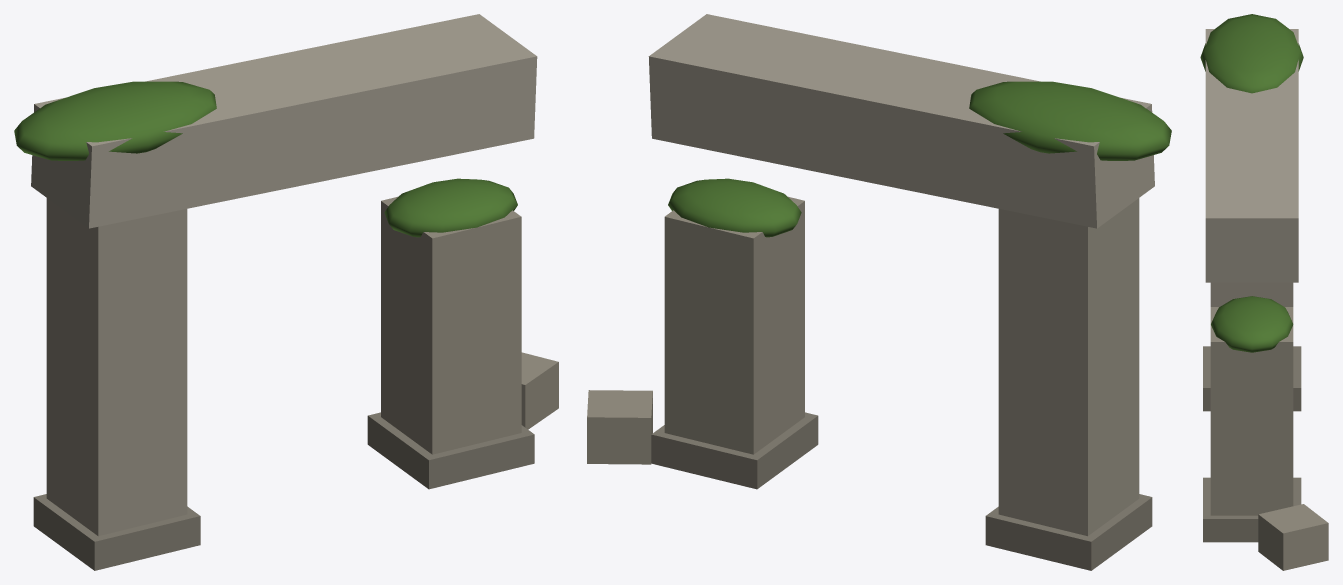
File: deco_ruin_arch_lite.glb
3 renders of one model, left to right at view 1: azimuth 30°, elevation 25°; view 2: azimuth 150°, elevation 25°; view 3: azimuth 270°, elevation 25°, orthographic. The views are drawn at different scales.
Parts seen in each view (by area): view 1: Cube; view 2: Cube; view 3: Cube.
Boxes of the visible parts, x1,y1,x2,y2 form: Cube: (14,14,558,570); Cube: (587,14,1171,570); Cube: (1200,14,1328,570).
Size of the model in its own units: 5.04 by 3.76 by 1.24.
